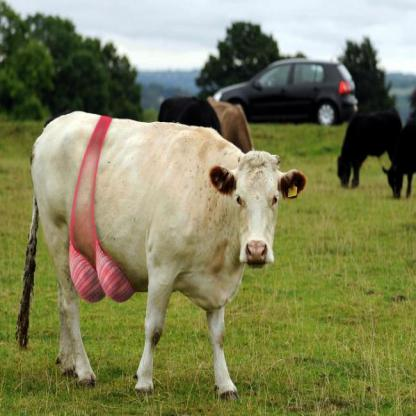cow: (16, 109, 308, 401), (336, 106, 404, 189), (381, 107, 416, 200)
